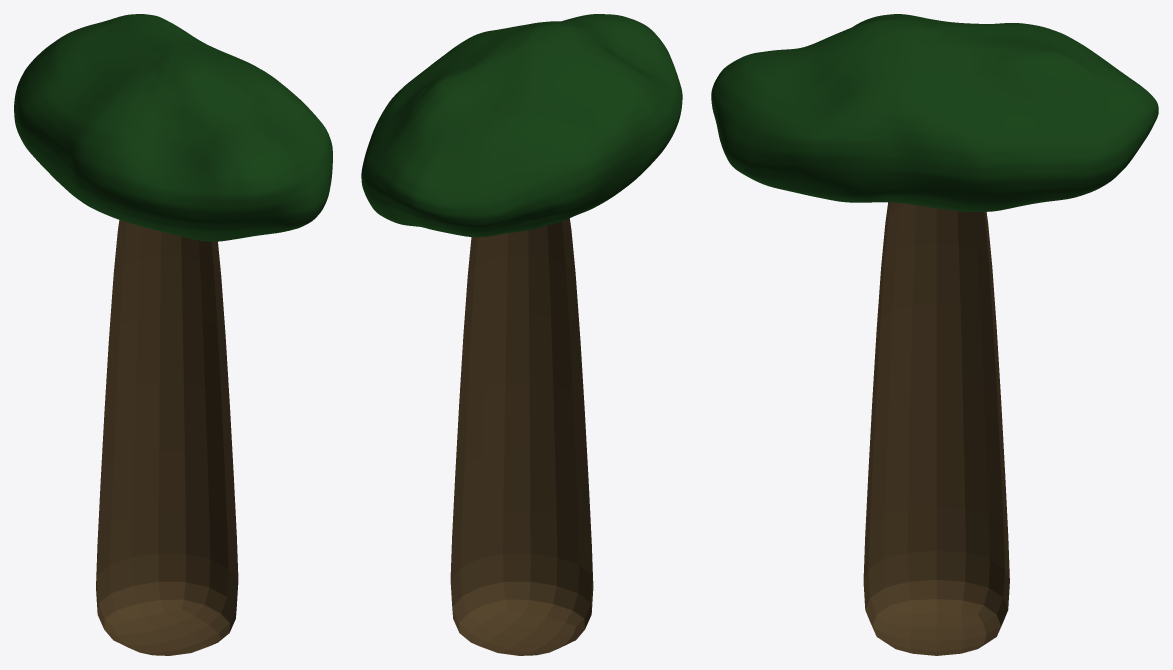
Rendered from baobab4.gltf.
3 views of the same model, side by side, from view 1: azimuth 30°, elevation 25°; view 2: azimuth 150°, elevation 25°; view 3: azimuth 270°, elevation 25° (orthographic). The views are drawn at different scales.
Parts seen in each view (by area): view 1: Sphere; view 2: Sphere; view 3: Sphere.
Part boxes in pixels (x1,y1,x2,y2): Sphere: (14, 14, 332, 655); Sphere: (361, 14, 682, 655); Sphere: (711, 14, 1158, 655).
Size of the model in its own units: 7.52 by 18.6 by 12.28.
